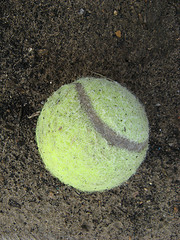tennis ball: (34, 76, 152, 193)
